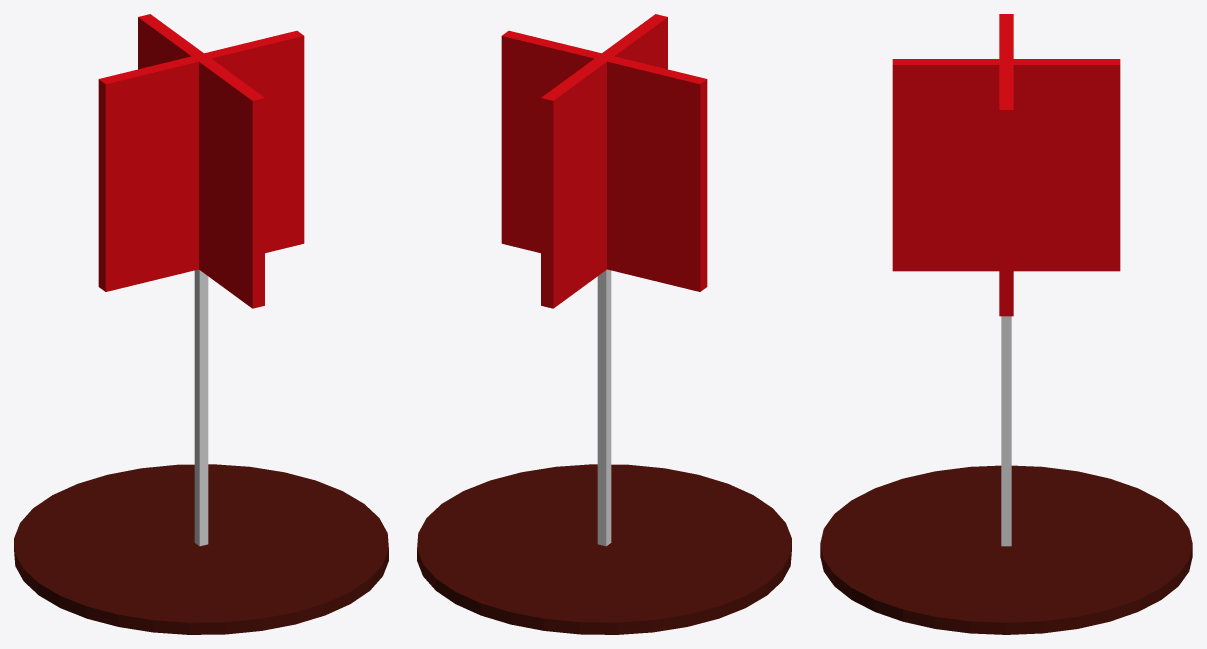
Rendered from Pointer.fbx.
3 views of the same model, side by side, from view 1: azimuth 30°, elevation 25°; view 2: azimuth 150°, elevation 25°; view 3: azimuth 270°, elevation 25° (orthographic).
Parts seen in each view (by area): view 1: Cylinder, Cube.002, Cube.001, Cube; view 2: Cylinder, Cube.002, Cube.001, Cube; view 3: Cylinder, Cube.001, Cube.002, Cube.
Boxes of the visible parts, <box> form: Cylinder: <box>14,464,388,634</box>; Cube.002: <box>98,30,304,291</box>; Cube.001: <box>138,14,264,308</box>; Cube: <box>194,269,208,546</box>; Cylinder: <box>417,464,791,634</box>; Cube.002: <box>501,30,707,291</box>; Cube.001: <box>541,14,667,308</box>; Cube: <box>597,269,611,546</box>; Cylinder: <box>820,465,1192,634</box>; Cube.001: <box>892,59,1120,271</box>; Cube.002: <box>999,14,1013,316</box>; Cube: <box>1001,316,1011,546</box>.
Size of the model in its own units: 2168 by 3173 by 2168.
